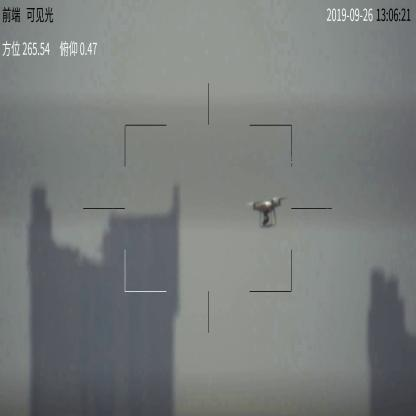uav: (245, 197, 290, 228)
